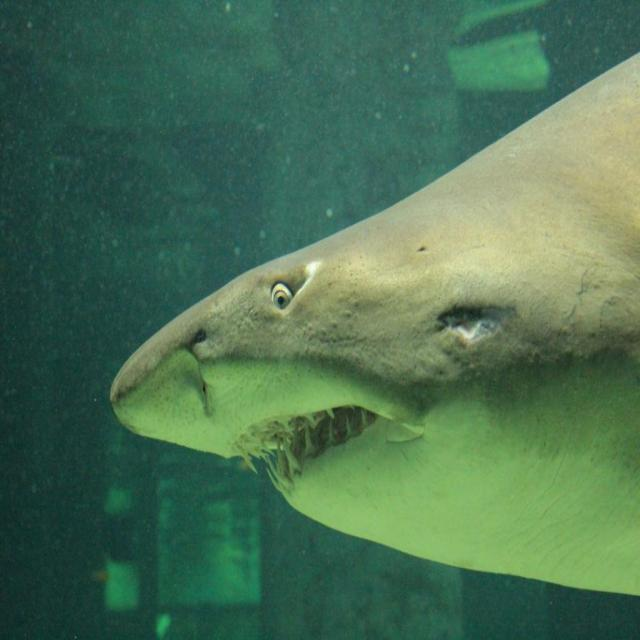Shark: (109, 52, 640, 595)
